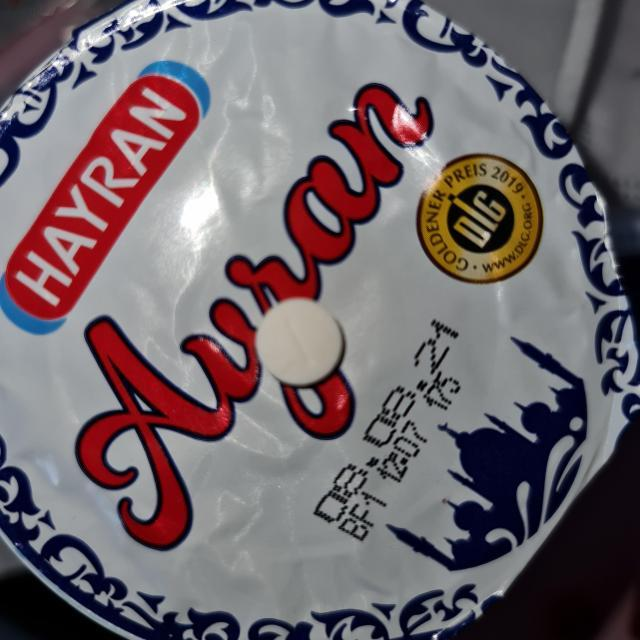pill: (254, 296, 350, 389)
